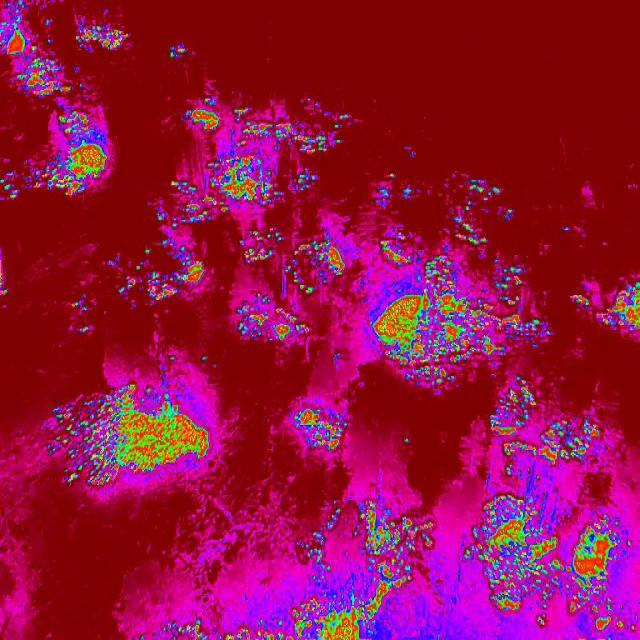fire: (369, 222, 547, 394), (458, 488, 638, 630), (175, 97, 355, 229), (39, 376, 216, 494), (296, 500, 438, 640), (234, 228, 352, 352), (492, 383, 606, 477), (28, 101, 115, 198), (0, 0, 74, 96), (123, 238, 210, 313), (578, 280, 640, 349), (287, 402, 357, 461), (144, 616, 296, 640), (70, 13, 126, 52)
